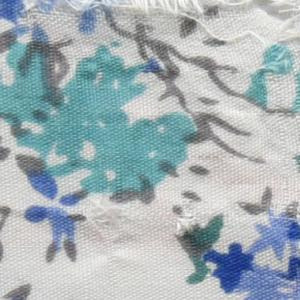Damage: (1, 1, 300, 74), (77, 190, 146, 274), (172, 198, 204, 241)
